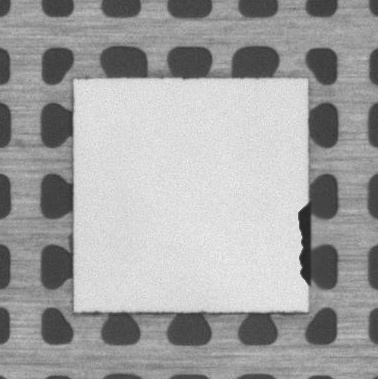DIE_BROKEN: (294, 203, 313, 289)
